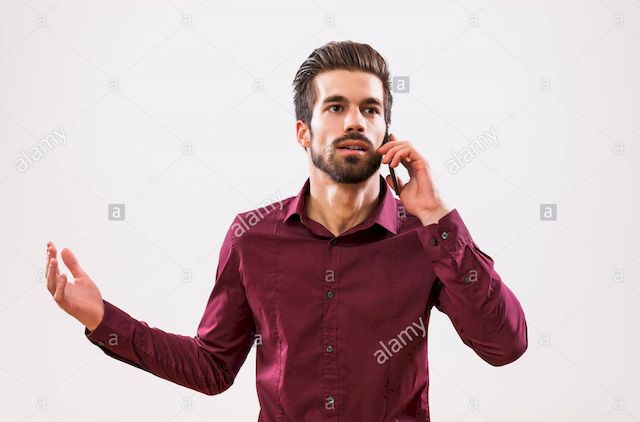phone: (379, 129, 416, 199)
talk: (310, 91, 436, 215)
